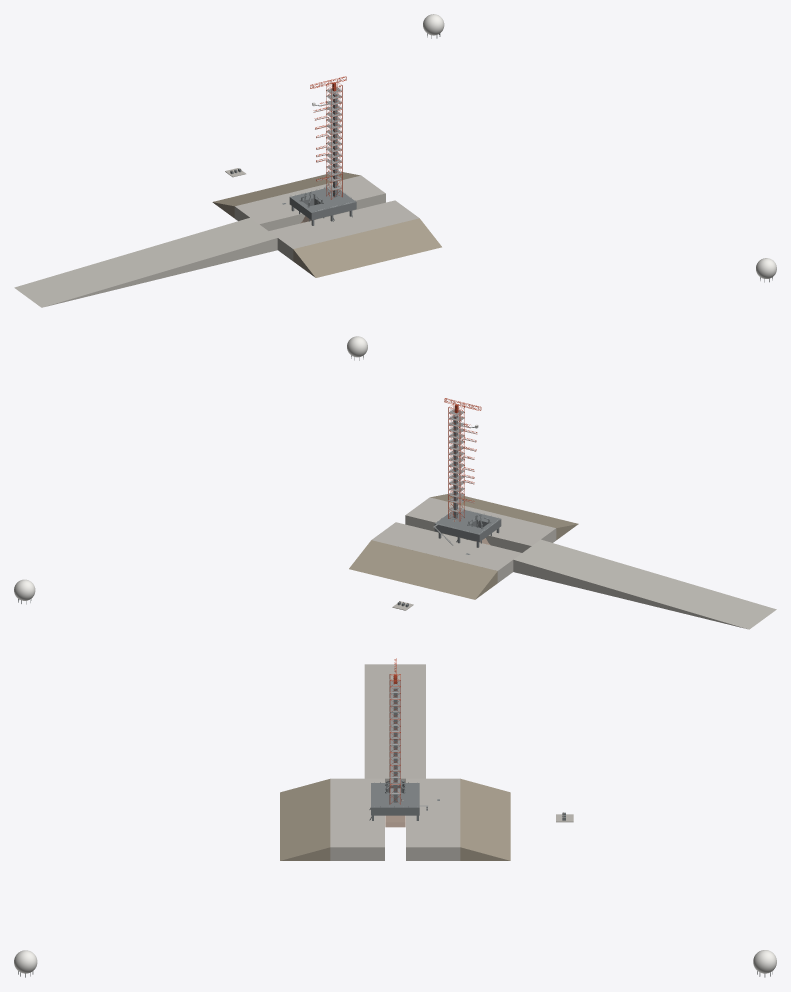
The model's file is pad-a.glb.
The picture shows the model from 3 angles, top to bottom: view 1: azimuth 30°, elevation 25°; view 2: azimuth 150°, elevation 25°; view 3: azimuth 270°, elevation 25°; orthographic projection. The views are drawn at different scales.
Parts seen in each view (by area): view 1: Hardstand_Concrete, Hardstand_Earth, Launcher_Base_Steel, Umbilical_Tower_Deck, Umbilical_Tower_Red, Storage_Spheres_White; view 2: Hardstand_Concrete, Hardstand_Earth, Launcher_Base_Steel, Umbilical_Tower_Red, Umbilical_Tower_Deck, Storage_Spheres_White; view 3: Hardstand_Concrete, Hardstand_Earth, Launcher_Base_Steel, Umbilical_Tower_Deck, Storage_Spheres_White, Umbilical_Tower_Red.
Boxes of the visible parts, x1,y1,x2,y2 form: Hardstand_Concrete: (14, 175, 419, 307); Hardstand_Earth: (212, 171, 441, 277); Launcher_Base_Steel: (289, 188, 356, 220); Umbilical_Tower_Deck: (326, 87, 341, 190); Umbilical_Tower_Red: (326, 82, 342, 199); Storage_Spheres_White: (423, 14, 776, 278); Hardstand_Concrete: (372, 497, 776, 629); Hardstand_Earth: (349, 493, 578, 599); Launcher_Base_Steel: (434, 510, 501, 541); Umbilical_Tower_Red: (448, 404, 464, 521); Umbilical_Tower_Deck: (448, 409, 464, 512); Storage_Spheres_White: (14, 336, 367, 600); Hardstand_Concrete: (330, 664, 460, 860); Hardstand_Earth: (280, 778, 510, 860); Launcher_Base_Steel: (371, 783, 419, 815); Umbilical_Tower_Deck: (390, 680, 400, 794); Storage_Spheres_White: (14, 950, 776, 973); Umbilical_Tower_Red: (389, 674, 400, 804).
Bounding box in the file's own units: 630 × 149 × 645.
